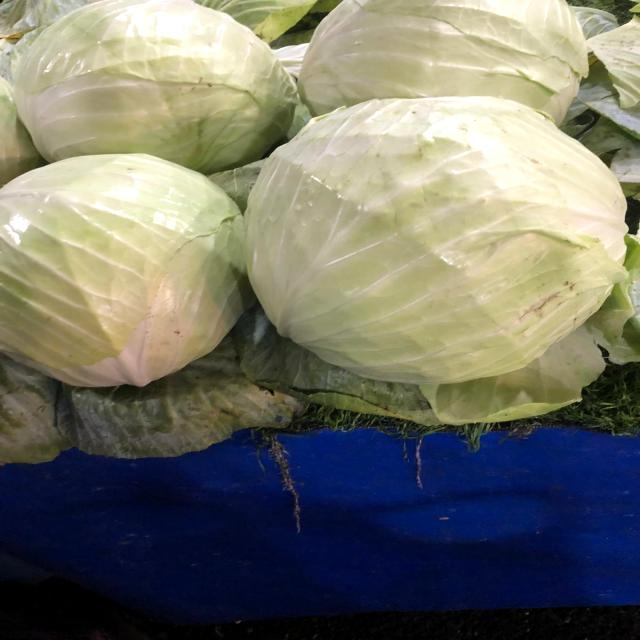cabbage: (232, 91, 640, 389), (0, 145, 251, 401), (0, 2, 304, 172)
